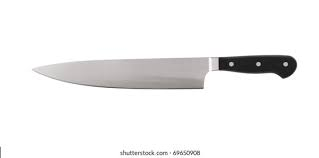knife: (31, 54, 299, 91)
